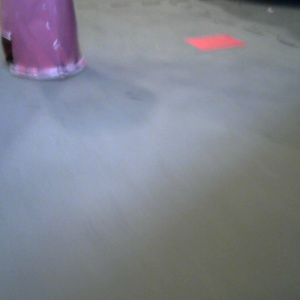right: (1, 1, 90, 90), (1, 1, 90, 89)
